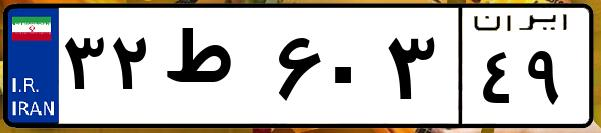0: (330, 28, 385, 110)
2: (110, 28, 158, 98)
3: (385, 28, 445, 110), (57, 26, 110, 100)
4: (475, 38, 525, 113)
6: (270, 28, 330, 110)
9: (525, 38, 570, 115)
ط: (158, 20, 270, 120)
